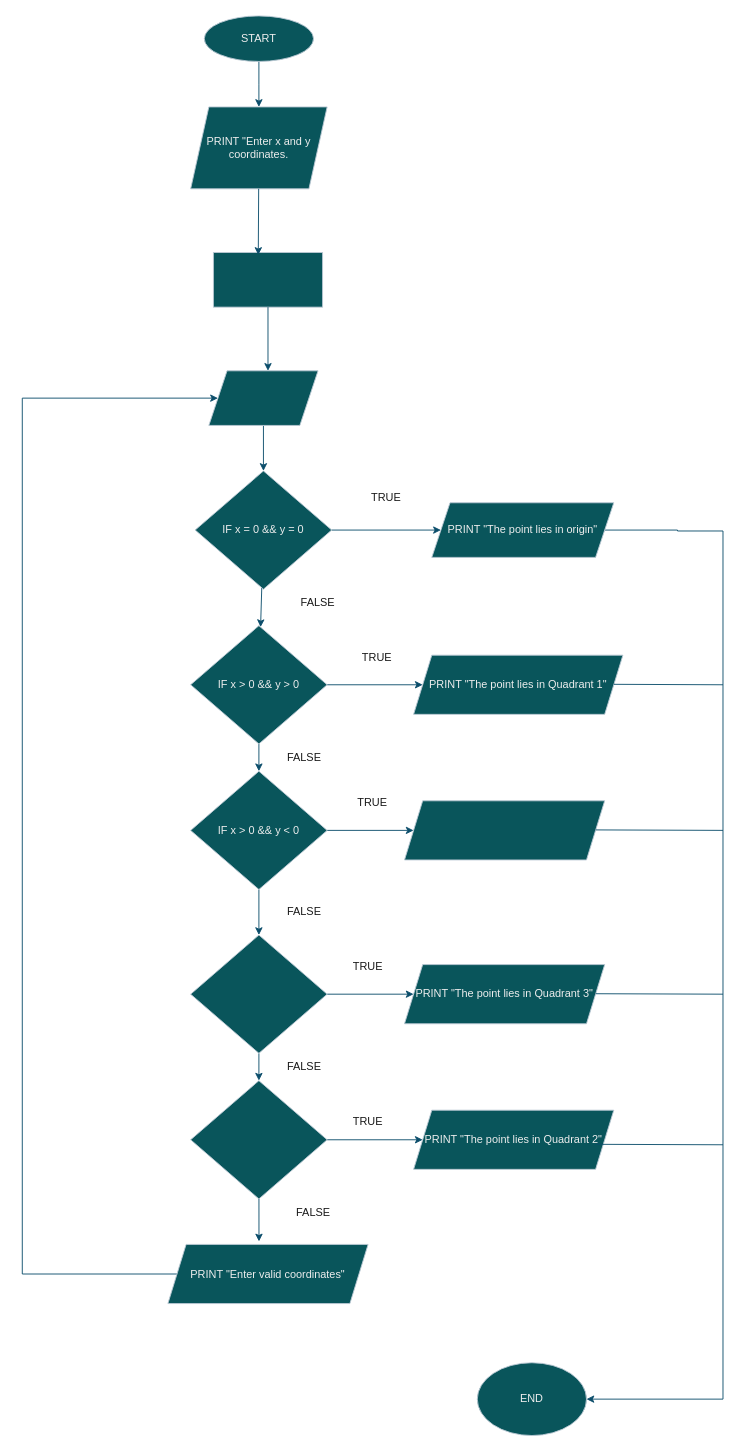
The diagram is 746 pixels wide and 1451 high, and some of its shapes have lost their labels. Each missing label, with the box of its shape:
DECLARE x DECLARE y: (212, 252, 323, 307)
IF x < 0 && y < 0: (190, 934, 327, 1053)
IF x < 0 && y > 0: (190, 1080, 327, 1199)
INPUT x and y: (208, 370, 318, 425)
PRINT "The point lies in Quadrant 4": (404, 800, 605, 860)
